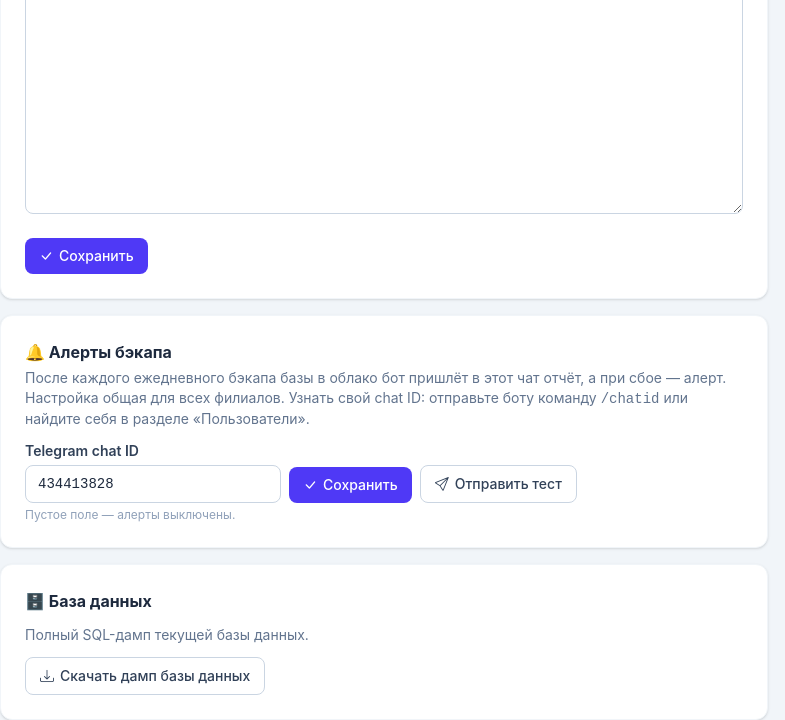
SettingsView — алерты бэкапа › shows the saved chat id and saves only that setting
(page scrolled)
Type " 555 " into the field with test id "alert-chat-id" at (153, 484), box 25,465 -> 281,503
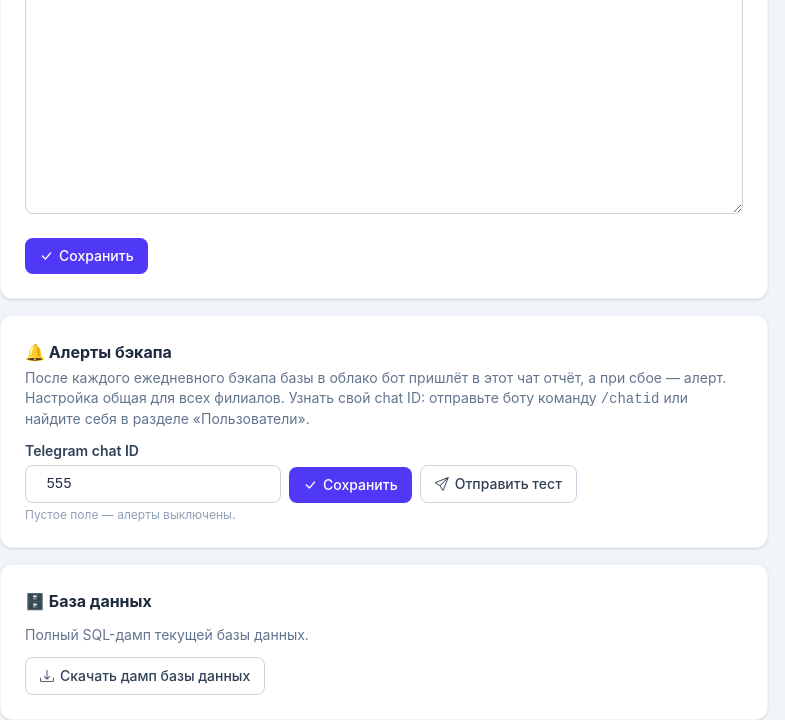
Click the button with test id "alert-save" at (350, 485), box 289,467 -> 412,503
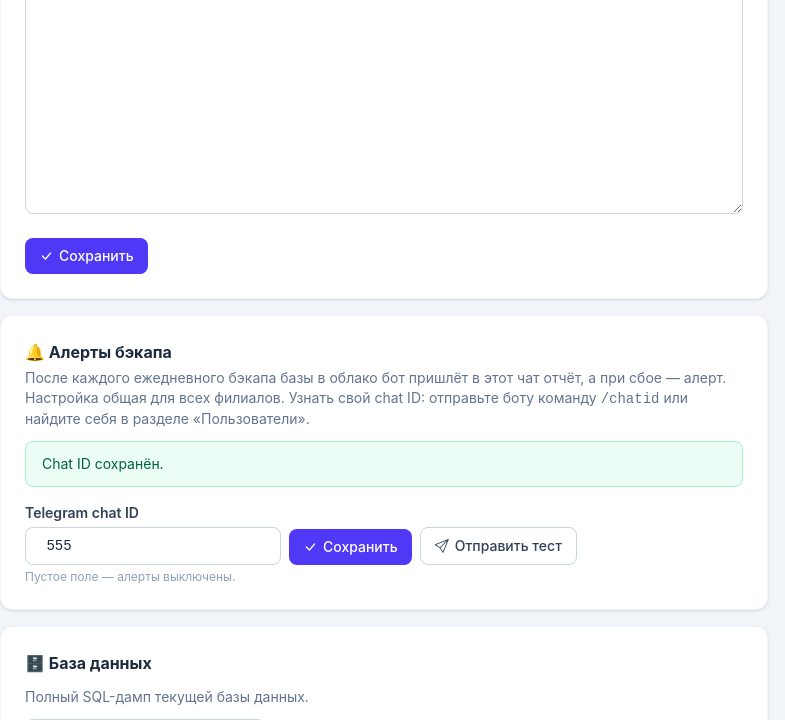
Expected: the text with test id "alert-msg" shows "сохранён", 42,455 -> 164,472
